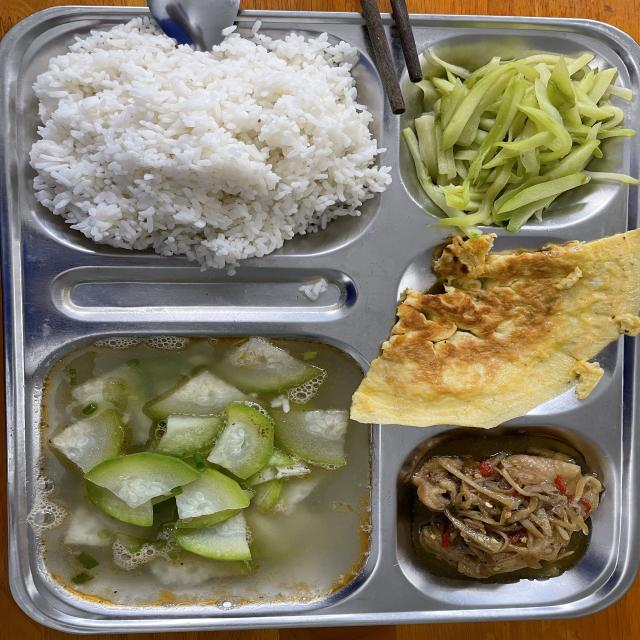com_trang: (42, 35, 376, 247)
trung_chien: (354, 232, 640, 425)
